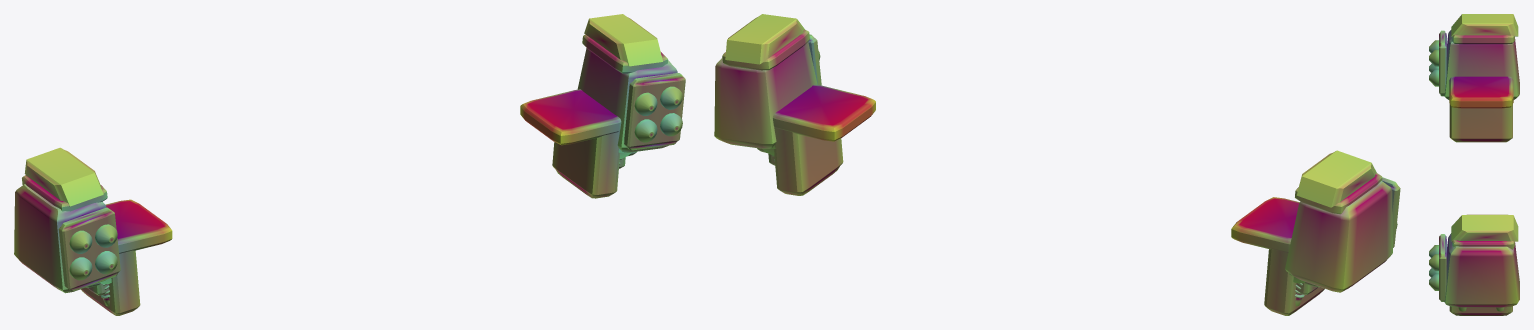
Rendered from llm_gen_shoulder_pods_053_a6455b.glb.
3 renders of one model, left to right at view 1: azimuth 30°, elevation 25°; view 2: azimuth 150°, elevation 25°; view 3: azimuth 270°, elevation 25°, orthographic. The views are drawn at different scales.
Visible parts, largest first — view 1: adapter_shoulder_yoke_r, missile_box_hull_1_era_block_l, adapter_shoulder_yoke_l, missile_box_hull_1_era_block_r, missile_top_cowl_3_crimson_gloss_l, missile_top_cowl_3_crimson_gloss_r, adapter_sub_missile_bezel_dark_4_adapter_dark_r, adapter_sub_missile_bezel_dark_4_adapter_dark_l, adapter_sub_missile_hood_dark_2_adapter_dark_r, adapter_sub_missile_hood_dark_2_adapter_dark_l; view 2: missile_box_hull_1_era_block_l, adapter_shoulder_yoke_r, missile_box_hull_1_era_block_r, adapter_shoulder_yoke_l, missile_top_cowl_3_crimson_gloss_l, missile_top_cowl_3_crimson_gloss_r, adapter_sub_missile_hood_dark_2_adapter_dark_r, adapter_sub_missile_hood_dark_2_adapter_dark_l; view 3: missile_box_hull_1_era_block_r, adapter_shoulder_yoke_l, missile_box_hull_1_era_block_l, missile_top_cowl_3_crimson_gloss_r, missile_top_cowl_3_crimson_gloss_l, adapter_sub_missile_hood_dark_2_adapter_dark_l, adapter_shoulder_yoke_r, adapter_sub_missile_bezel_dark_4_adapter_dark_r, adapter_sub_missile_bezel_dark_4_adapter_dark_l, adapter_sub_missile_hood_dark_2_adapter_dark_r, missile_cell_br_8_adapter_dark_r, missile_cell_tr_6_adapter_dark_r (+4 smaller).
Boxes of the visible parts, x1,y1,x2,y2 form: adapter_shoulder_yoke_r: [520, 89, 636, 198]; missile_box_hull_1_era_block_l: [14, 184, 106, 293]; adapter_shoulder_yoke_l: [81, 199, 172, 315]; missile_box_hull_1_era_block_r: [577, 48, 677, 152]; missile_top_cowl_3_crimson_gloss_l: [24, 147, 103, 206]; missile_top_cowl_3_crimson_gloss_r: [584, 14, 662, 66]; adapter_sub_missile_bezel_dark_4_adapter_dark_r: [624, 73, 685, 150]; adapter_sub_missile_bezel_dark_4_adapter_dark_l: [58, 207, 120, 291]; adapter_sub_missile_hood_dark_2_adapter_dark_r: [582, 34, 667, 73]; adapter_sub_missile_hood_dark_2_adapter_dark_l: [22, 175, 107, 211]; missile_box_hull_1_era_block_l: [1285, 181, 1392, 292]; adapter_shoulder_yoke_r: [757, 84, 875, 195]; missile_box_hull_1_era_block_r: [714, 42, 817, 148]; adapter_shoulder_yoke_l: [1231, 197, 1324, 315]; missile_top_cowl_3_crimson_gloss_l: [1296, 150, 1376, 207]; missile_top_cowl_3_crimson_gloss_r: [725, 14, 805, 64]; adapter_sub_missile_hood_dark_2_adapter_dark_r: [722, 29, 809, 70]; adapter_sub_missile_hood_dark_2_adapter_dark_l: [1295, 173, 1382, 214]; missile_box_hull_1_era_block_r: [1444, 233, 1519, 307]; adapter_shoulder_yoke_l: [1449, 76, 1513, 142]; missile_box_hull_1_era_block_l: [1444, 30, 1519, 99]; missile_top_cowl_3_crimson_gloss_r: [1451, 214, 1518, 241]; missile_top_cowl_3_crimson_gloss_l: [1451, 14, 1518, 36]; adapter_sub_missile_hood_dark_2_adapter_dark_l: [1451, 34, 1514, 44]; adapter_shoulder_yoke_r: [1449, 306, 1512, 315]; adapter_sub_missile_bezel_dark_4_adapter_dark_r: [1439, 234, 1446, 301]; adapter_sub_missile_bezel_dark_4_adapter_dark_l: [1439, 30, 1446, 96]; adapter_sub_missile_hood_dark_2_adapter_dark_r: [1451, 240, 1514, 249]; missile_cell_br_8_adapter_dark_r: [1429, 273, 1438, 290]; missile_cell_tr_6_adapter_dark_r: [1429, 254, 1438, 271].
Size of the model in its own units: 108 by 23.93 by 18.4.
